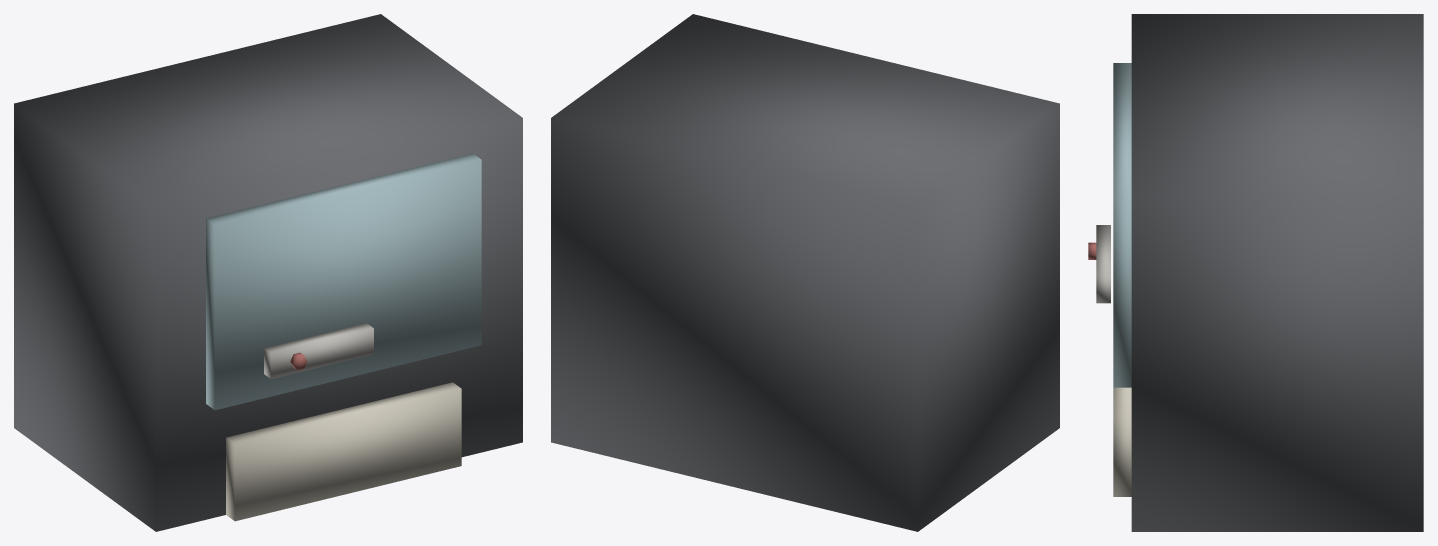
File: microfilm_reader__compact.glb
3 renders of one model, left to right at view 1: azimuth 30°, elevation 25°; view 2: azimuth 150°, elevation 25°; view 3: azimuth 270°, elevation 25°, orthographic. The views are drawn at different scales.
Visible parts, largest first — view 1: world; view 2: world; view 3: world.
Boxes of the visible parts, x1=… form: world: x1=14, y1=14, x2=522, y2=531; world: x1=551, y1=14, x2=1059, y2=531; world: x1=1088, y1=14, x2=1423, y2=531.
Bounding box in the file's own units: 0.462 × 0.3906 × 0.3556.
